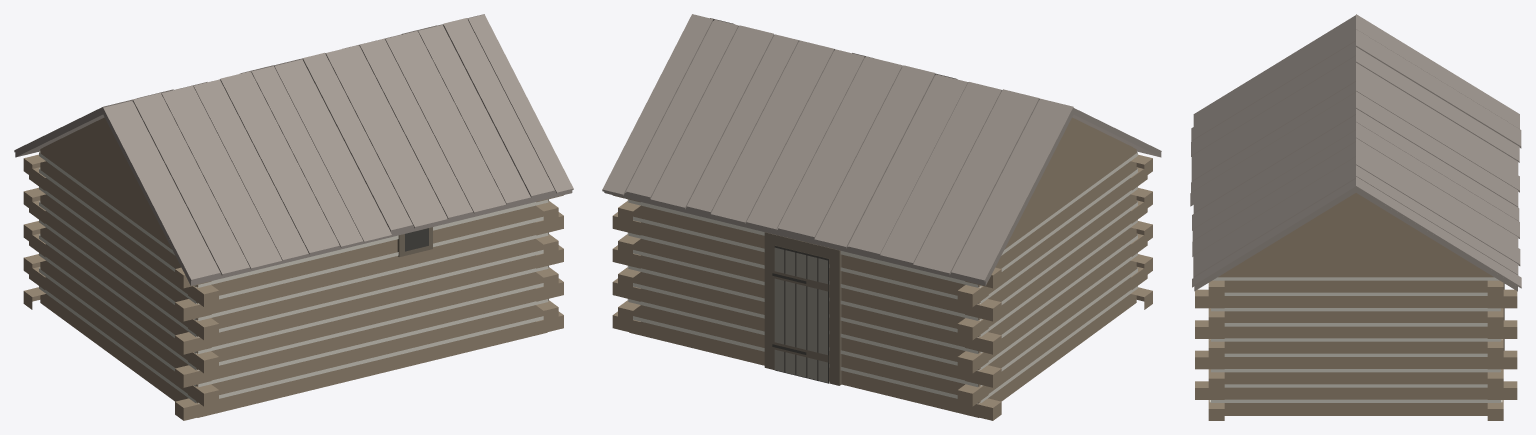
File: first_fort_outer_merchants_shop__first_fort_1803.glb
3 renders of one model, left to right at view 1: azimuth 30°, elevation 25°; view 2: azimuth 150°, elevation 25°; view 3: azimuth 270°, elevation 25°, orthographic. The views are drawn at different scales.
Parts seen in each view (by area): view 1: first_fort_outer_merchants_shop__first_fort_1803; view 2: first_fort_outer_merchants_shop__first_fort_1803; view 3: first_fort_outer_merchants_shop__first_fort_1803.
Boxes of the visible parts, box(x1,y1,x2,y2) form: first_fort_outer_merchants_shop__first_fort_1803: box(14, 14, 573, 420); first_fort_outer_merchants_shop__first_fort_1803: box(602, 14, 1161, 420); first_fort_outer_merchants_shop__first_fort_1803: box(1190, 14, 1521, 420).
Bounding box in the file's own units: 6.01 × 3.89 × 4.91.
